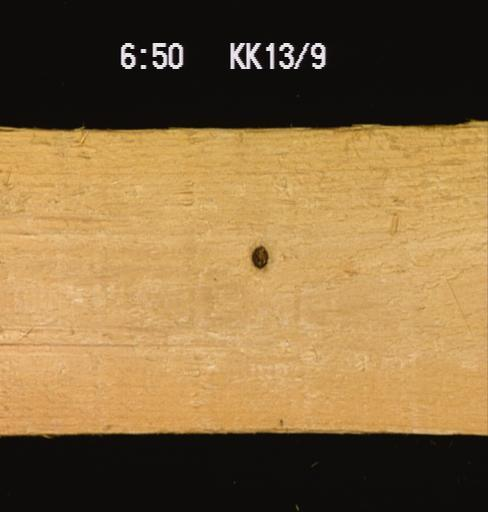wave: (121, 417, 483, 438)
